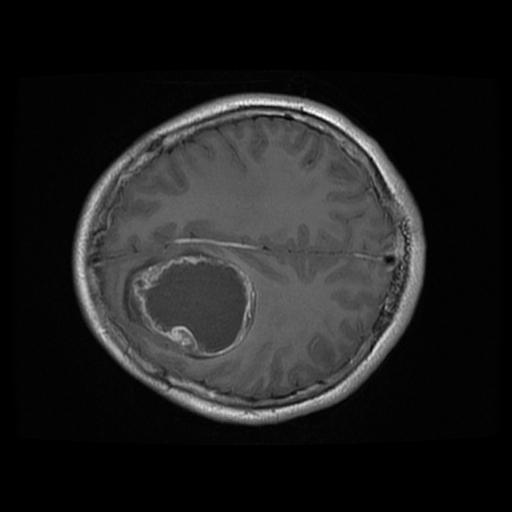glioma: (120, 253, 257, 360)
